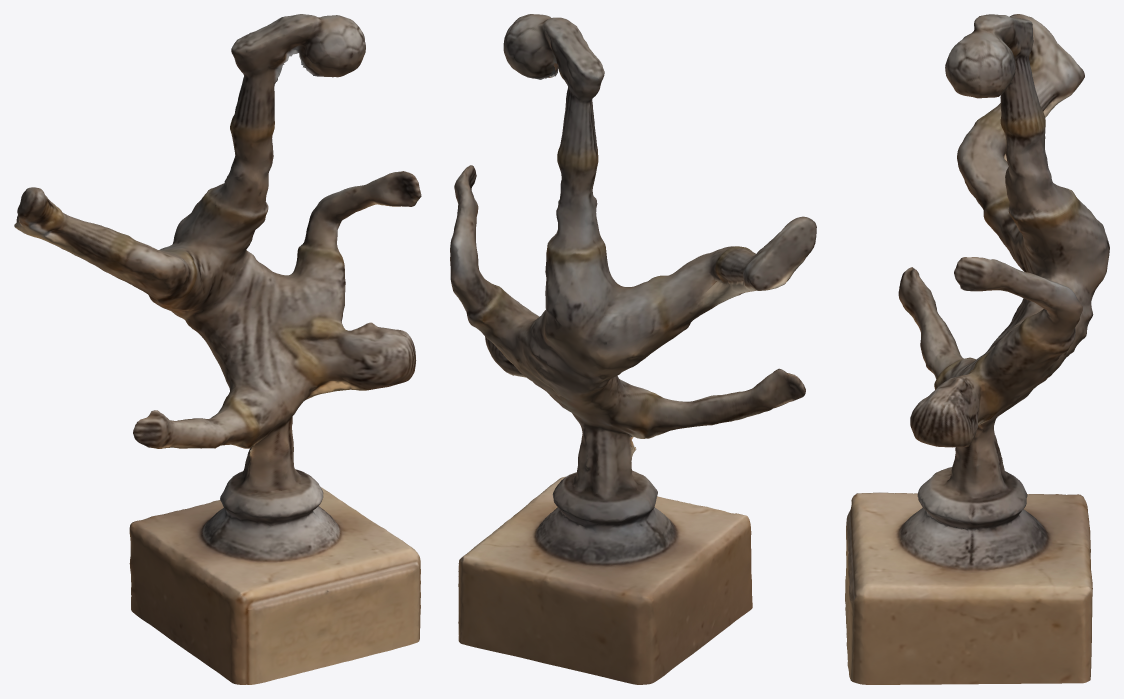
Rendered from copafutbol.glb.
3 views of the same model, side by side, from view 1: azimuth 30°, elevation 25°; view 2: azimuth 150°, elevation 25°; view 3: azimuth 270°, elevation 25° (orthographic). The views are drawn at different scales.
Parts seen in each view (by area): view 1: mainMeshNode; view 2: mainMeshNode; view 3: mainMeshNode.
Part boxes in pixels (left/top/right/bottom): mainMeshNode: left=14, top=14, right=421, bottom=684; mainMeshNode: left=450, top=14, right=816, bottom=684; mainMeshNode: left=845, top=14, right=1109, bottom=684.
Size of the model in its own units: 3.09 by 4.7 by 1.77.
1 material, 1 textured.
